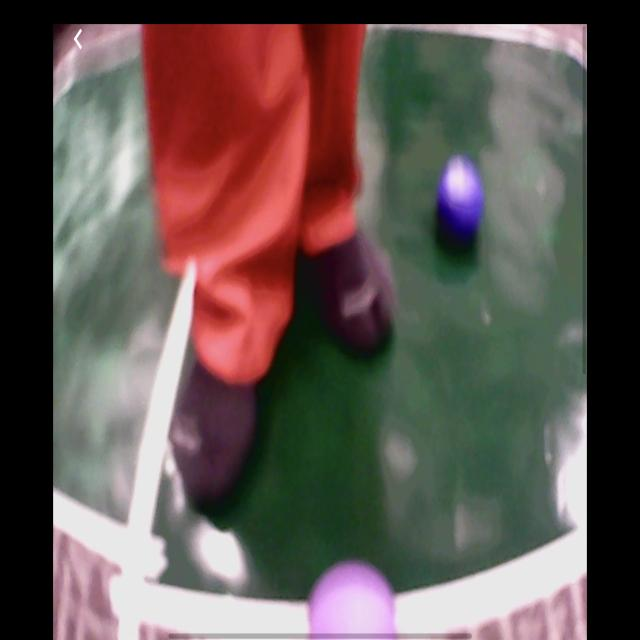ball: (310, 560, 398, 637), (438, 155, 487, 236)
